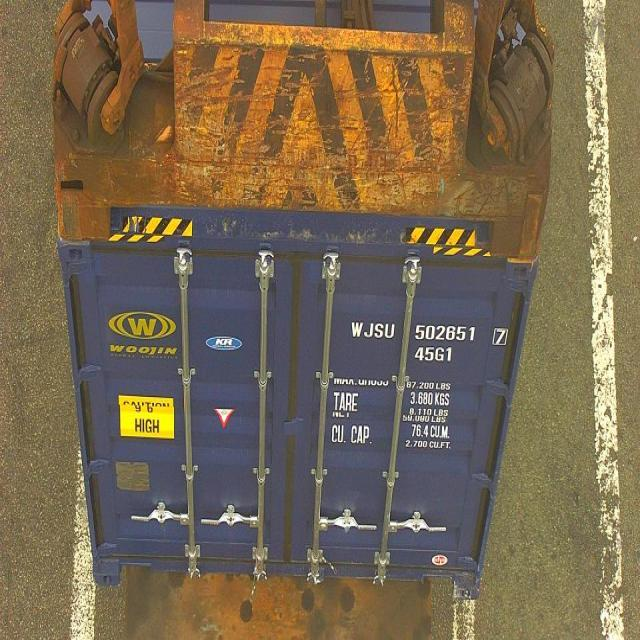ISO: (414, 346, 454, 364)
container_number: (350, 318, 509, 346)
